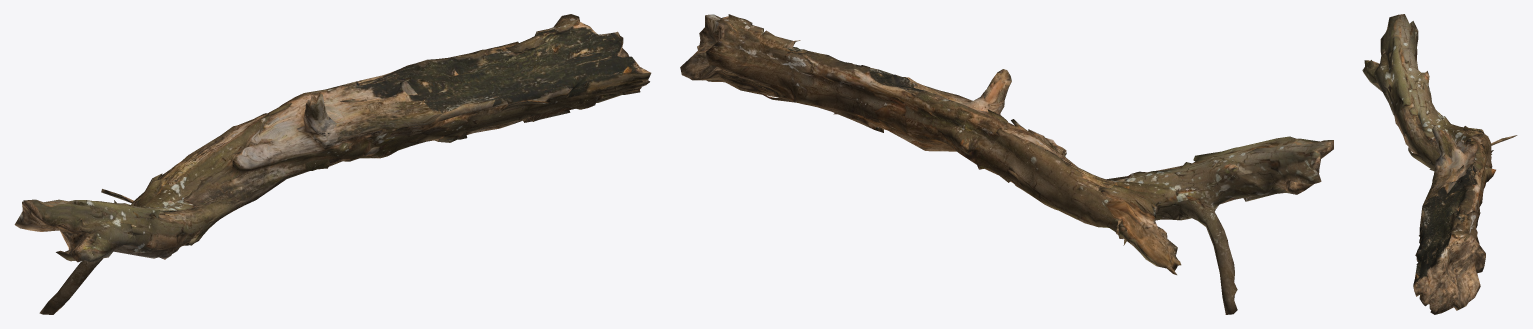
The model's file is dead_tree_trunk_02.glb.
3 views of the same model, side by side, from view 1: azimuth 30°, elevation 25°; view 2: azimuth 150°, elevation 25°; view 3: azimuth 270°, elevation 25° (orthographic). The views are drawn at different scales.
Parts seen in each view (by area): view 1: DeadTreeTrunk02; view 2: DeadTreeTrunk02; view 3: DeadTreeTrunk02.
Part boxes in pixels (x1,y1,x2,y2): DeadTreeTrunk02: (14, 14, 651, 314); DeadTreeTrunk02: (680, 14, 1333, 314); DeadTreeTrunk02: (1362, 14, 1517, 314).
Bounding box in the file's own units: 4.06 × 1.06 × 1.06.
1 material, 1 textured.
